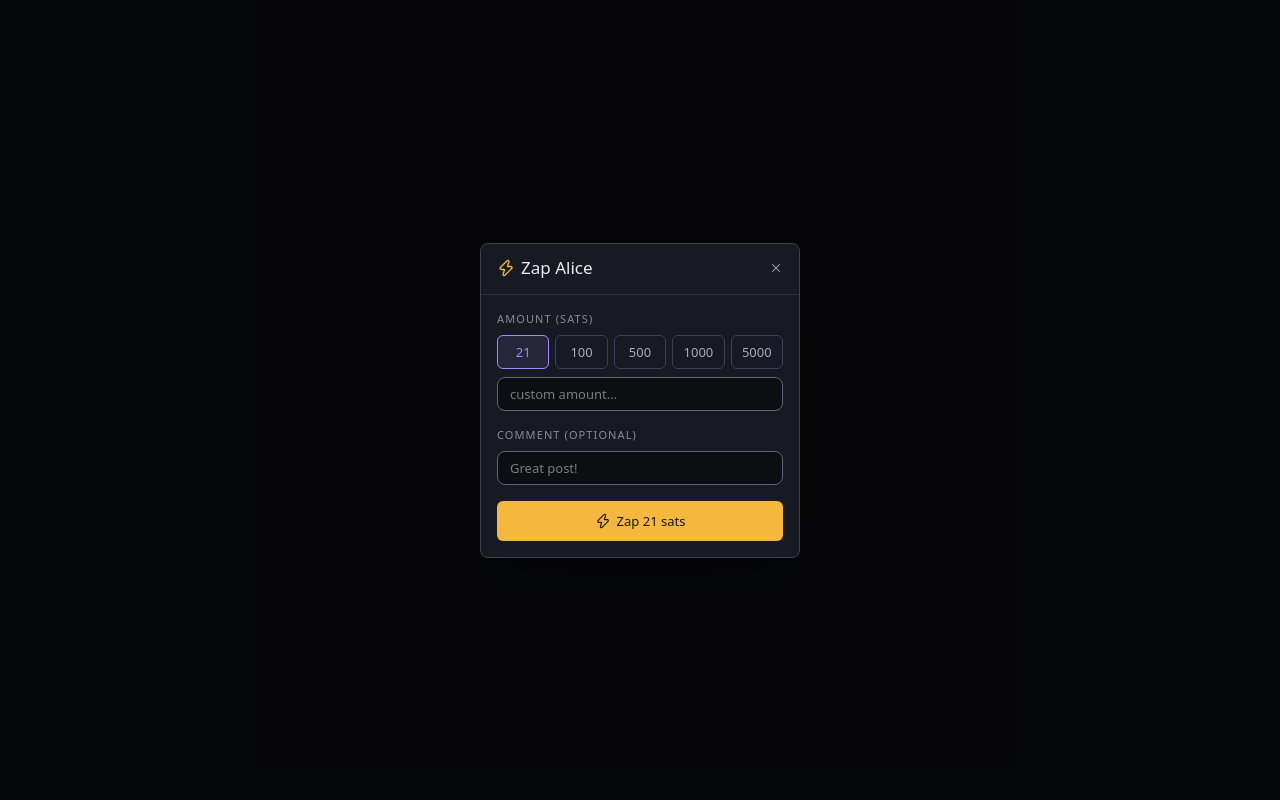
Scenario: ZapModal › uses the custom amount once one is typed, and a preset again once one is picked
Type "750" into the field with placeholder "custom amount…" at (640, 394), box top-left (497, 376), bottom-right (783, 410)
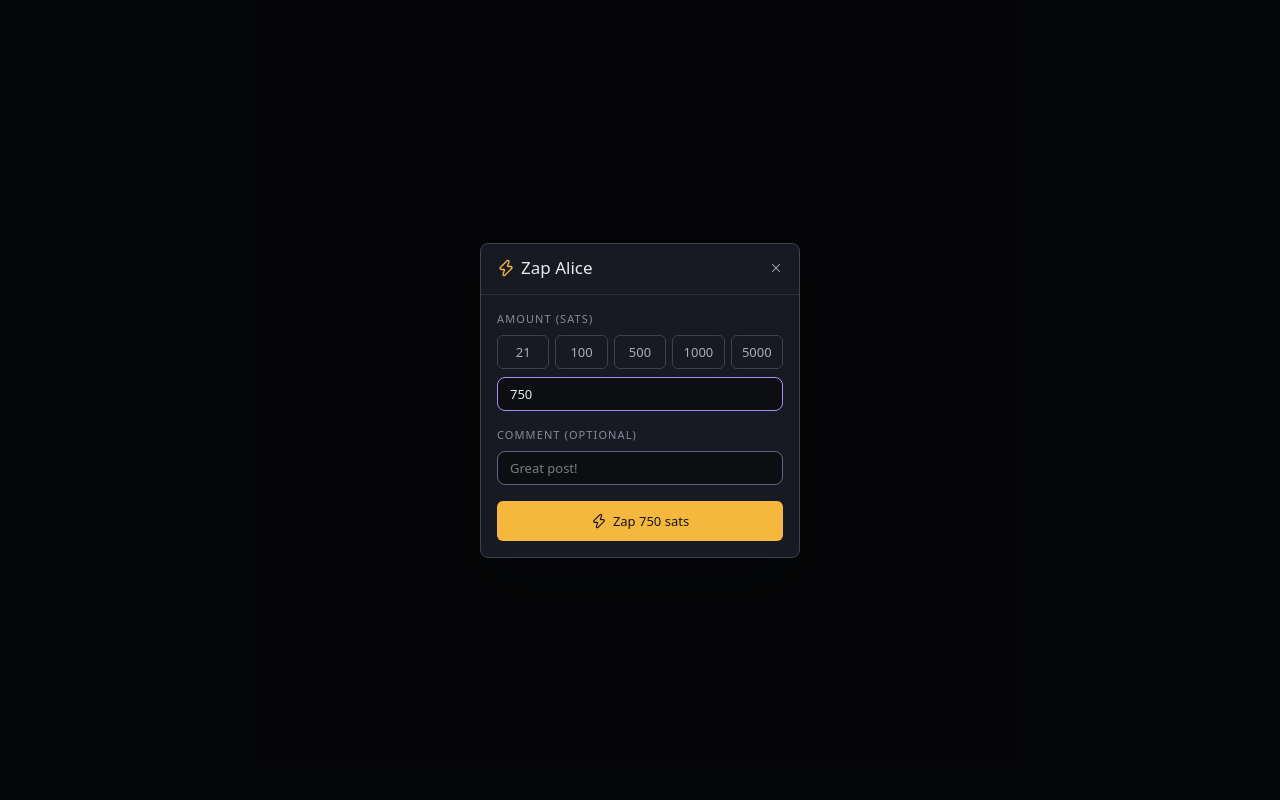
Expected: the button "Zap 750 sats" is shown, top-left (497, 500), bottom-right (783, 540)
Click the button "100" at (582, 352), box top-left (555, 334), bottom-right (608, 368)
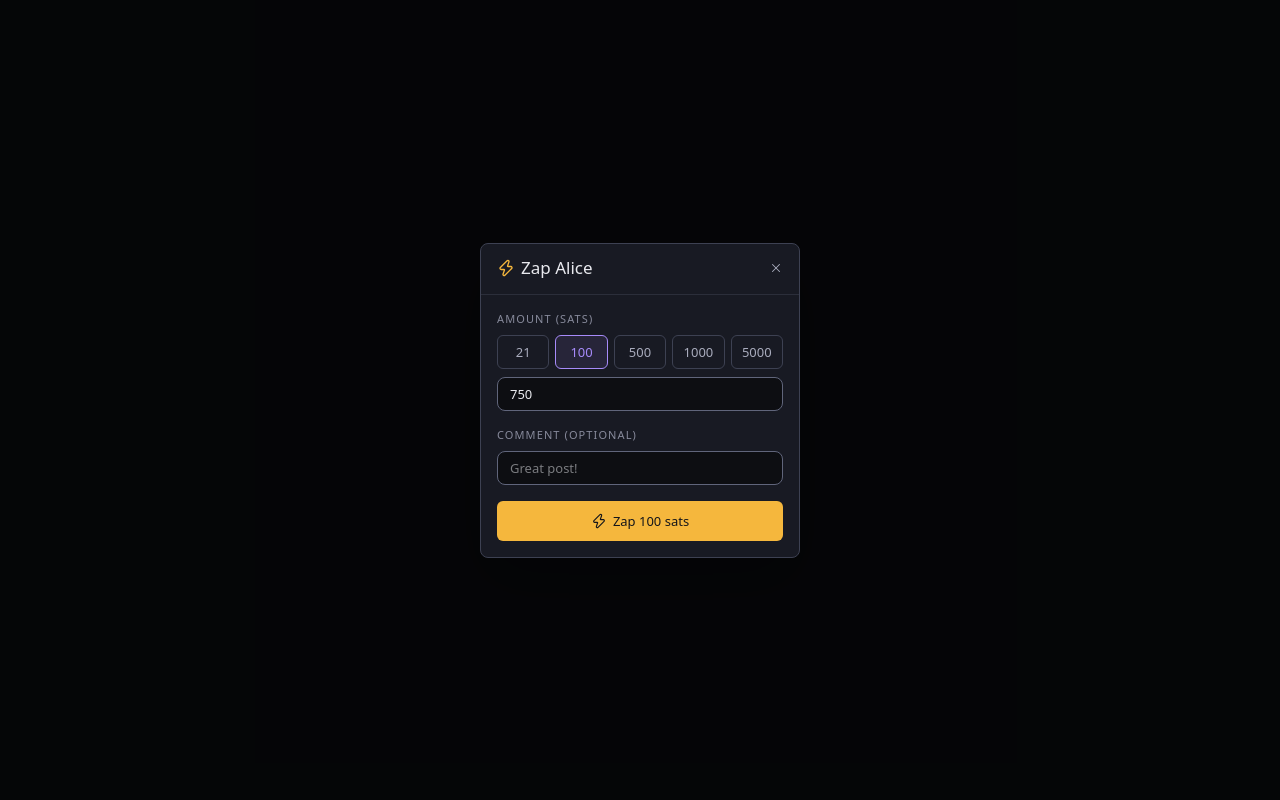
Expected: the button "Zap 100 sats" is shown, top-left (497, 500), bottom-right (783, 540)
